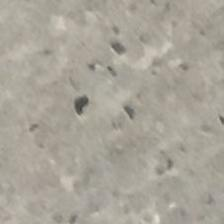Non_Crack: (26, 126, 224, 212)
